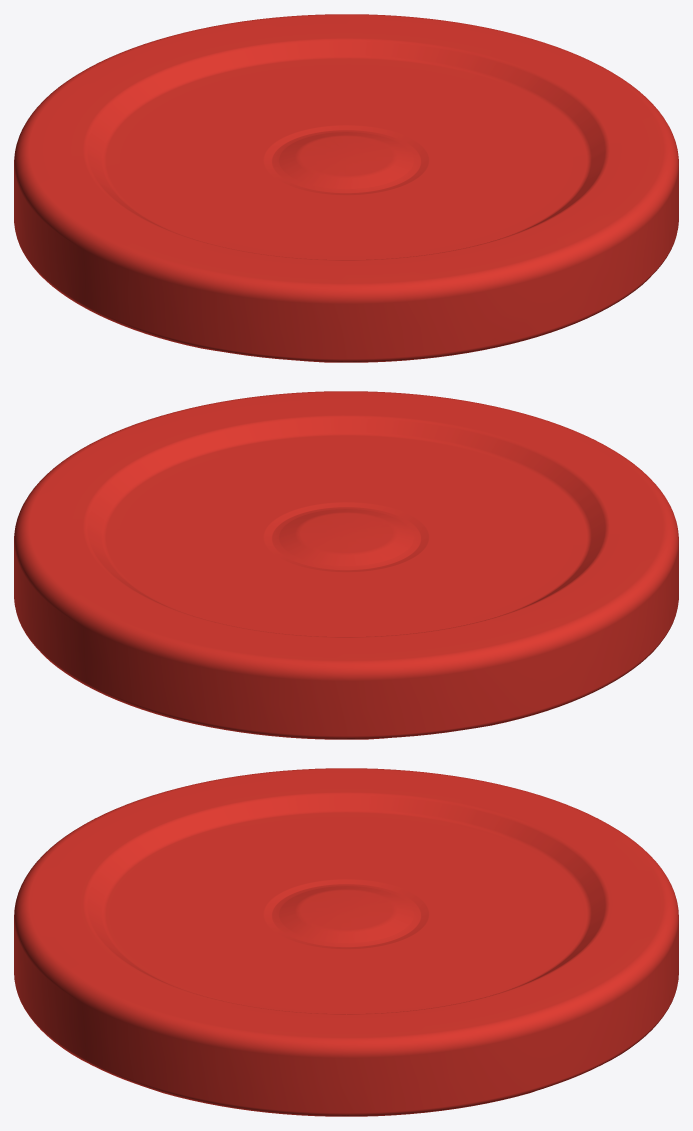
Rendered from lid-twist.glb.
3 renders of one model, top to bottom at view 1: azimuth 30°, elevation 25°; view 2: azimuth 150°, elevation 25°; view 3: azimuth 270°, elevation 25°, orthographic.
Parts seen in each view (by area): view 1: TwistOff82_Lid; view 2: TwistOff82_Lid; view 3: TwistOff82_Lid.
Boxes of the visible parts, box(x1,y1,x2,y2) form: TwistOff82_Lid: box(14, 14, 678, 362); TwistOff82_Lid: box(14, 391, 678, 739); TwistOff82_Lid: box(14, 768, 678, 1116).
Size of the model in its own units: 0.082 by 0.0102 by 0.082.
